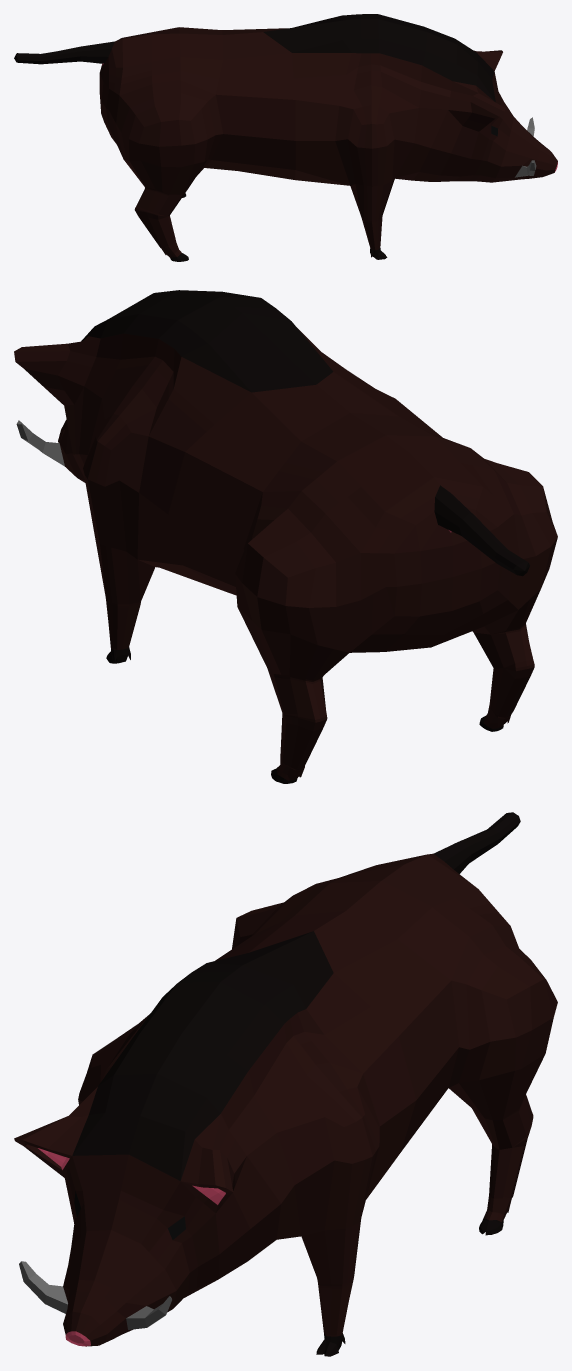
Rendered from puercofbx2.fbx.
3 renders of one model, top to bottom at view 1: azimuth 30°, elevation 25°; view 2: azimuth 150°, elevation 25°; view 3: azimuth 270°, elevation 25°, orthographic. The views are drawn at different scales.
Visible parts, largest first — view 1: jabali; view 2: jabali; view 3: jabali.
Part boxes in pixels (box(x1,y1,x2,y2)): jabali: box(14, 14, 557, 261); jabali: box(14, 290, 557, 783); jabali: box(14, 812, 557, 1356).
Bounding box in the file's own units: 375 × 179 × 255.
